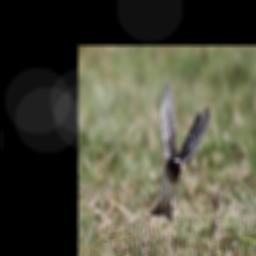Swallow: (150, 80, 210, 220)
